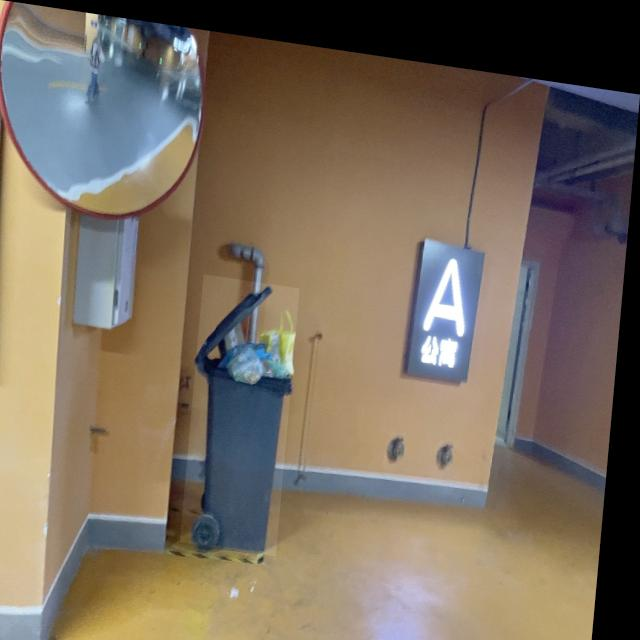overflow: (189, 267, 304, 547)
